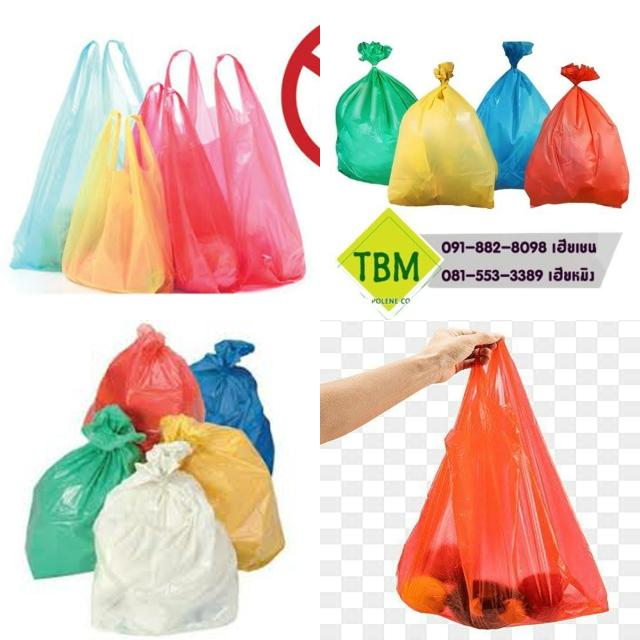Single-layer Plastic: (398, 341, 608, 629), (10, 40, 142, 271), (91, 441, 239, 634), (188, 55, 305, 288), (140, 84, 240, 292), (26, 405, 145, 579), (62, 111, 172, 292), (160, 414, 284, 570), (388, 62, 498, 209), (85, 324, 205, 451), (524, 64, 629, 208), (336, 41, 416, 185), (476, 41, 550, 188)
